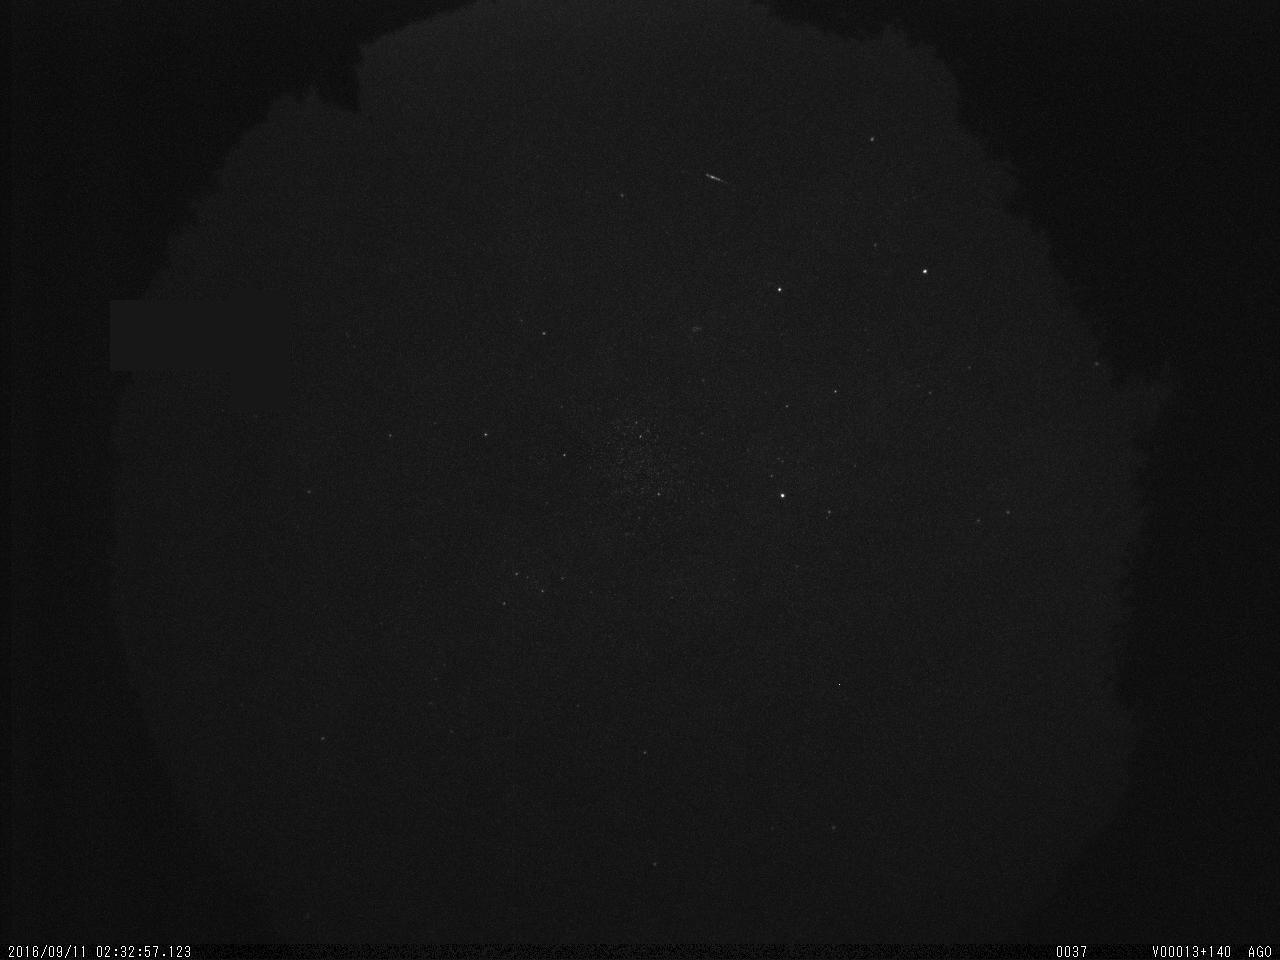meteor: (693, 165, 738, 191)
